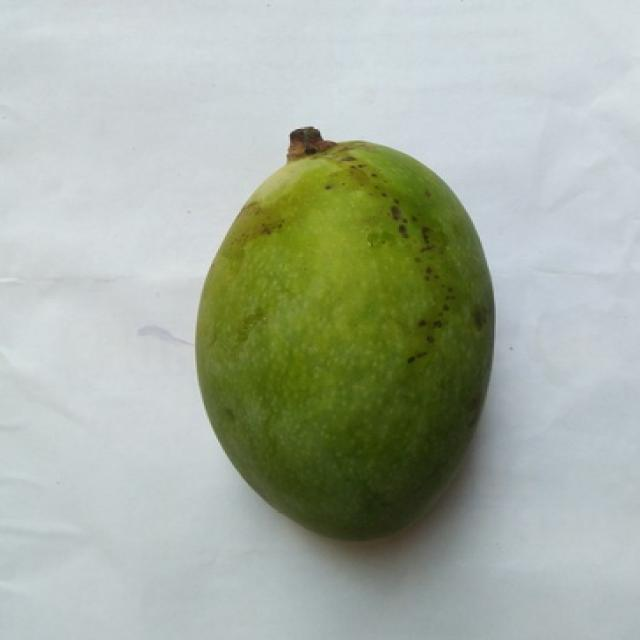Mango: (195, 142, 491, 538)
